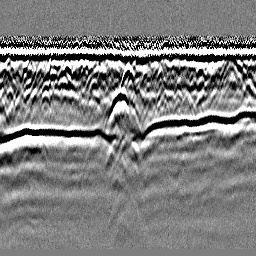cavity: (120, 62, 137, 94)
